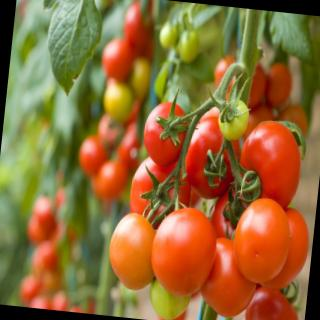Tomat: (147, 204, 221, 301), (236, 117, 307, 211), (181, 104, 246, 203), (229, 195, 295, 287), (127, 154, 195, 233), (106, 210, 162, 293), (141, 97, 192, 170), (216, 97, 252, 143)
